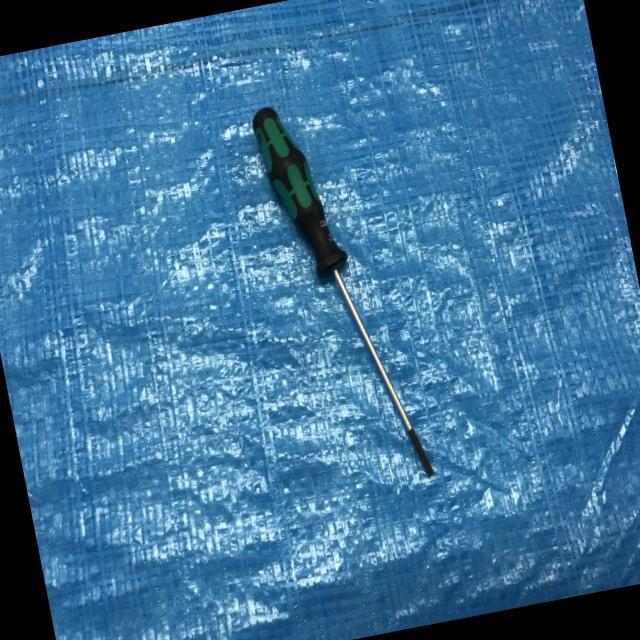screwdriver: (248, 88, 434, 493)
